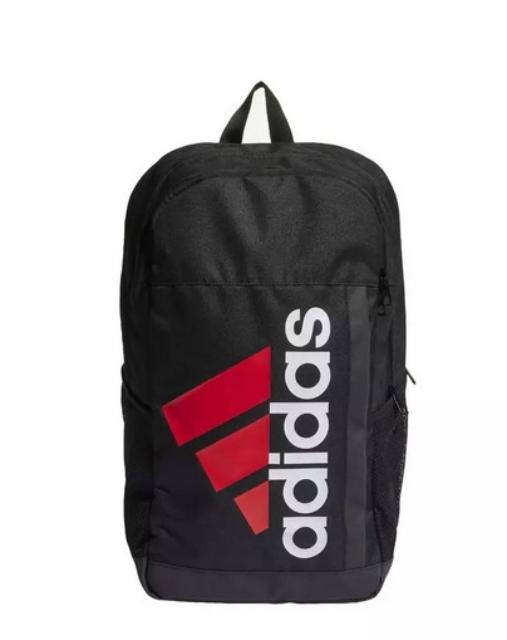Adidas: (146, 297, 344, 567), (154, 320, 272, 566), (272, 293, 344, 562)
